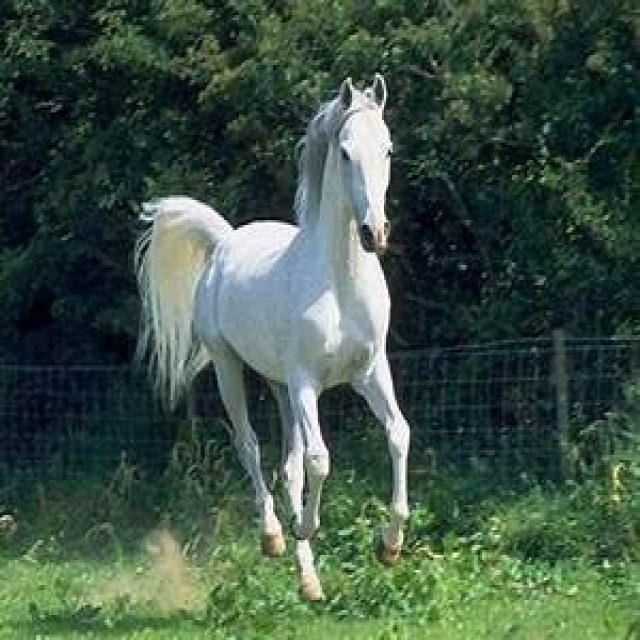horse: (130, 78, 412, 602)
